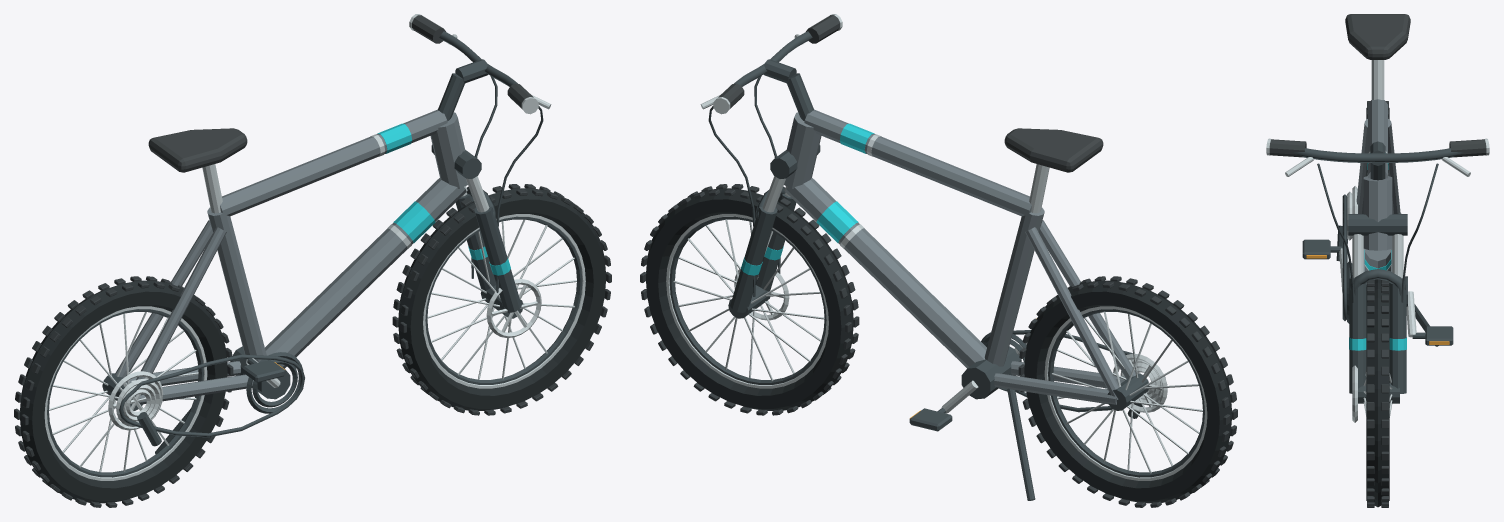
Rendered from stylised_bike.glb.
The picture shows the model from 3 angles, left to right: view 1: azimuth 30°, elevation 25°; view 2: azimuth 150°, elevation 25°; view 3: azimuth 270°, elevation 25°; orthographic projection. The views are drawn at different scales.
Visible parts, largest first — view 1: Bike_Charcoal_rubber, Bike_Graphite_satin_enamel, Bike_Dark_hardware, Bike_Brushed_alloy, Bike_Raised_tyre_tread, Bike_Saddle_and_soft_grips, Bike_Turquoise_enamel; view 2: Bike_Charcoal_rubber, Bike_Graphite_satin_enamel, Bike_Dark_hardware, Bike_Brushed_alloy, Bike_Raised_tyre_tread, Bike_Saddle_and_soft_grips, Bike_Turquoise_enamel; view 3: Bike_Dark_hardware, Bike_Graphite_satin_enamel, Bike_Saddle_and_soft_grips, Bike_Charcoal_rubber, Bike_Brushed_alloy, Bike_Raised_tyre_tread, Bike_Turquoise_enamel.
Boxes of the visible parts, x1=… form: Bike_Charcoal_rubber: x1=20, y1=188, x2=605, y2=503; Bike_Graphite_satin_enamel: x1=115, y1=109, x2=467, y2=404; Bike_Dark_hardware: x1=47, y1=31, x2=582, y2=477; Bike_Brushed_alloy: x1=44, y1=14, x2=585, y2=480; Bike_Raised_tyre_tread: x1=14, y1=184, x2=611, y2=507; Bike_Saddle_and_soft_grips: x1=148, y1=15, x2=533, y2=172; Bike_Turquoise_enamel: x1=377, y1=123, x2=510, y2=275; Bike_Charcoal_rubber: x1=646, y1=188, x2=1231, y2=503; Bike_Graphite_satin_enamel: x1=784, y1=109, x2=1135, y2=404; Bike_Dark_hardware: x1=669, y1=31, x2=1204, y2=500; Bike_Brushed_alloy: x1=666, y1=14, x2=1207, y2=480; Bike_Raised_tyre_tread: x1=640, y1=184, x2=1237, y2=507; Bike_Saddle_and_soft_grips: x1=718, y1=15, x2=1103, y2=172; Bike_Turquoise_enamel: x1=741, y1=123, x2=874, y2=275; Bike_Dark_hardware: x1=1292, y1=141, x2=1463, y2=403; Bike_Graphite_satin_enamel: x1=1356, y1=99, x2=1401, y2=284; Bike_Saddle_and_soft_grips: x1=1269, y1=14, x2=1486, y2=157; Bike_Charcoal_rubber: x1=1366, y1=108, x2=1389, y2=507; Bike_Brushed_alloy: x1=1266, y1=60, x2=1489, y2=422; Bike_Raised_tyre_tread: x1=1367, y1=101, x2=1388, y2=507; Bike_Turquoise_enamel: x1=1349, y1=163, x2=1406, y2=350.
Size of the model in its own units: 2.06 by 1.21 by 0.7101.
